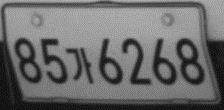2: (120, 37, 152, 85)
5: (39, 37, 68, 84)
6: (151, 37, 177, 85), (98, 37, 123, 85)
8: (175, 37, 205, 84), (13, 37, 42, 83)
가: (65, 46, 94, 84)
